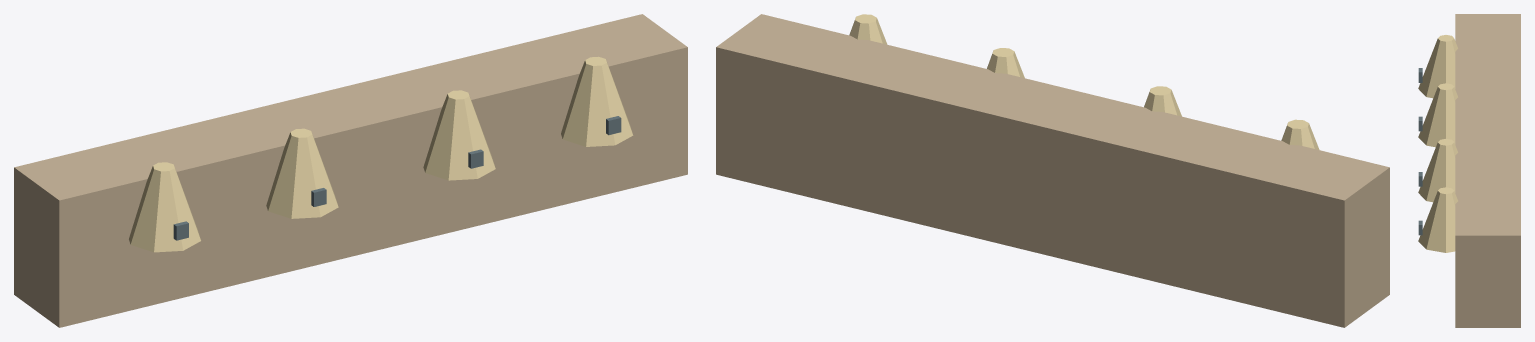
The model's file is bee_wall_near-BoGLSEcd.glb.
3 views of the same model, side by side, from view 1: azimuth 30°, elevation 25°; view 2: azimuth 150°, elevation 25°; view 3: azimuth 270°, elevation 25° (orthographic). The views are drawn at different scales.
Parts seen in each view (by area): view 1: bee_wall_near; view 2: bee_wall_near; view 3: bee_wall_near.
Part boxes in pixels (x1,y1,x2,y2): bee_wall_near: (14, 14, 687, 327); bee_wall_near: (716, 14, 1389, 327); bee_wall_near: (1418, 14, 1520, 327).
Size of the model in its own units: 16 by 3.45 by 3.13.
